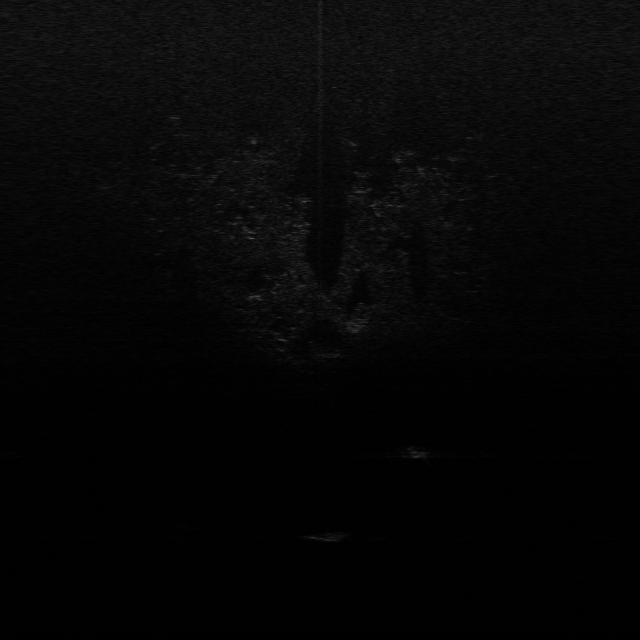cube: (298, 528, 354, 545)
square cage: (397, 442, 434, 460)
